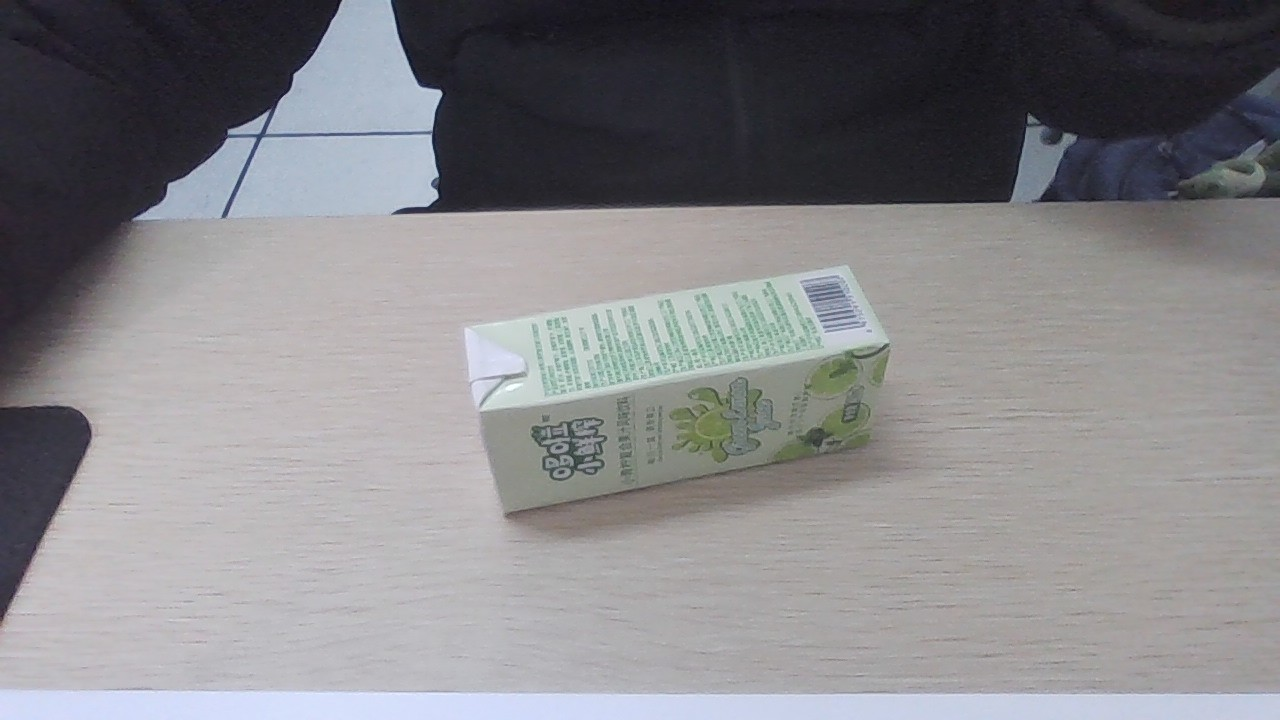CY-drink: (455, 268, 891, 520)
